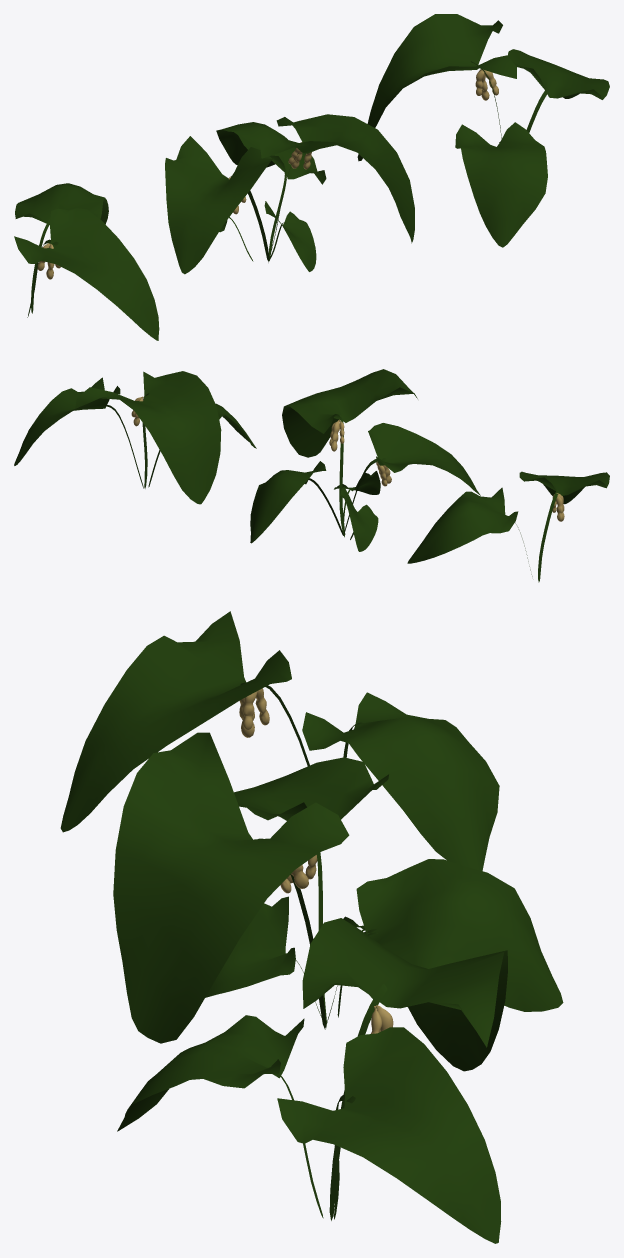
File: daizu.fbx
The picture shows the model from 3 angles, top to bottom: view 1: azimuth 30°, elevation 25°; view 2: azimuth 150°, elevation 25°; view 3: azimuth 270°, elevation 25°; orthographic projection. The views are drawn at different scales.
Parts seen in each view (by area): view 1: polySurface6, polySurface19, polySurface4, pCube4; view 2: polySurface6, polySurface19, polySurface4, pCube5; view 3: polySurface6, polySurface19, polySurface4, pCube7.
Part boxes in pixels (x1,y1,x2,y2): polySurface6: (165,114,414,274); polySurface19: (357,14,609,247); polySurface4: (14,183,159,340); pCube4: (475,69,498,100); polySurface6: (250,369,480,551); polySurface19: (14,371,256,504); polySurface4: (407,471,609,582); pCube5: (329,419,344,451); polySurface6: (113,732,563,1043); polySurface19: (117,918,507,1243); polySurface4: (60,611,499,870); pCube7: (239,688,269,737).
Bounding box in the file's own units: 9.11 × 2.26 × 3.8.
